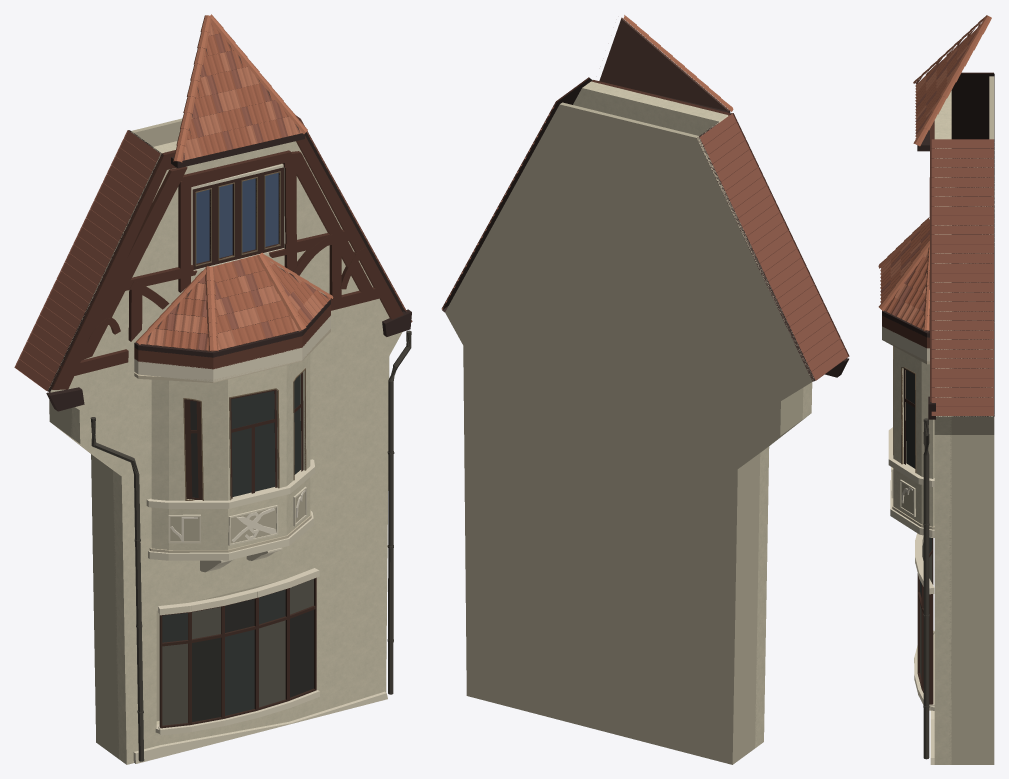
File: changning-hongqiao-1518-timber-gable-oriel-lod.glb
3 renders of one model, left to right at view 1: azimuth 30°, elevation 25°; view 2: azimuth 150°, elevation 25°; view 3: azimuth 270°, elevation 25°, orthographic. The views are drawn at different scales.
Parts seen in each view (by area): view 1: 虹桥路1518号的木构山墙与三面凸窗; view 2: 虹桥路1518号的木构山墙与三面凸窗; view 3: 虹桥路1518号的木构山墙与三面凸窗.
Boxes of the visible parts, x1,y1,x2,y2 form: 虹桥路1518号的木构山墙与三面凸窗: (14, 14, 412, 764); 虹桥路1518号的木构山墙与三面凸窗: (441, 15, 849, 764); 虹桥路1518号的木构山墙与三面凸窗: (878, 15, 994, 764).
Size of the model in its own units: 7.25 by 13.3 by 2.05.
Materials: 23 (1 with a texture image).
